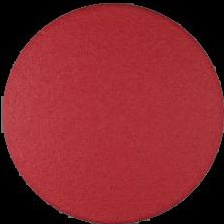51672-4051: (0, 0, 224, 224)
